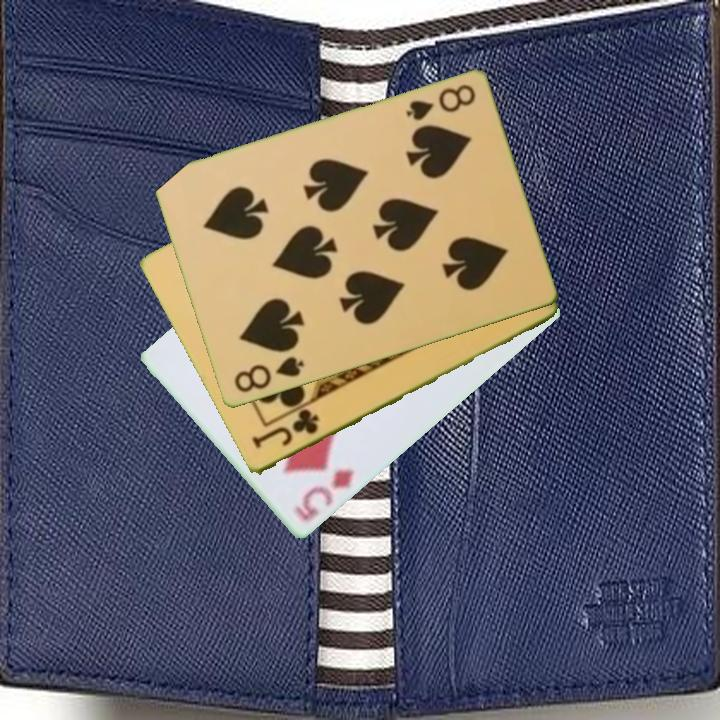5d: (290, 466, 357, 525)
8s: (230, 353, 307, 396), (402, 81, 478, 124)
Jc: (248, 406, 322, 452)
